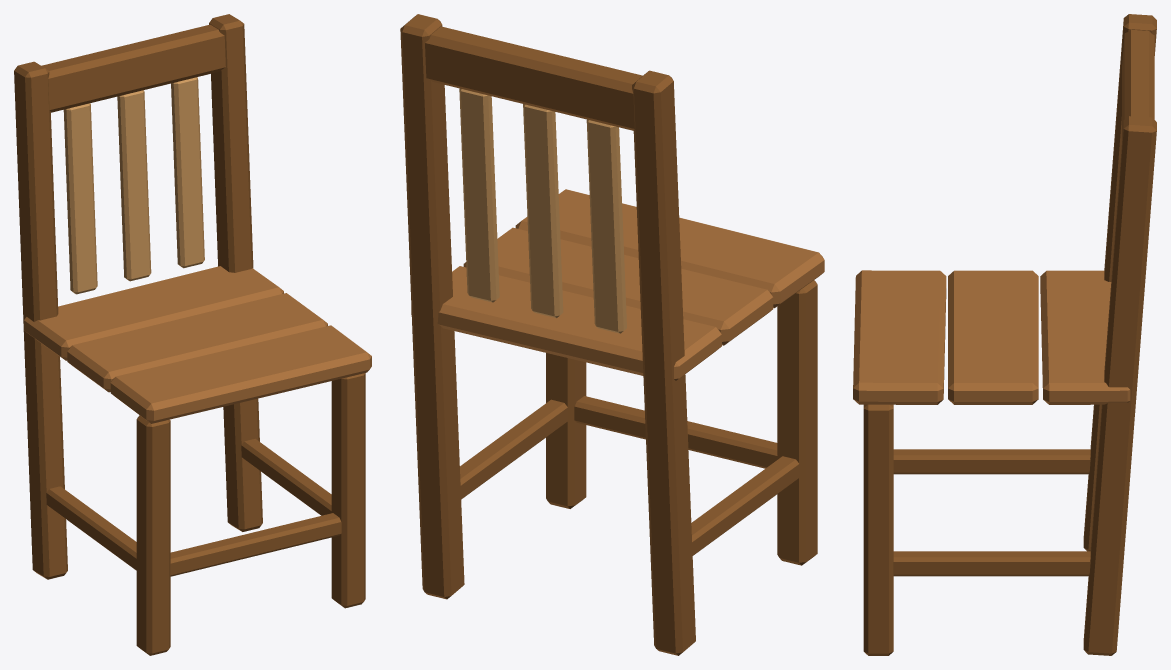
File: Prop_WoodChair.fbx
3 views of the same model, side by side, from view 1: azimuth 30°, elevation 25°; view 2: azimuth 150°, elevation 25°; view 3: azimuth 270°, elevation 25° (orthographic). The views are drawn at different scales.
Parts seen in each view (by area): view 1: Prop_WoodChair; view 2: Prop_WoodChair; view 3: Prop_WoodChair.
Boxes of the visible parts, x1,y1,x2,y2 form: Prop_WoodChair: [14, 14, 371, 655]; Prop_WoodChair: [400, 14, 824, 655]; Prop_WoodChair: [853, 14, 1156, 655].
Bounding box in the file's own units: 0.4613 × 0.9704 × 0.503.
